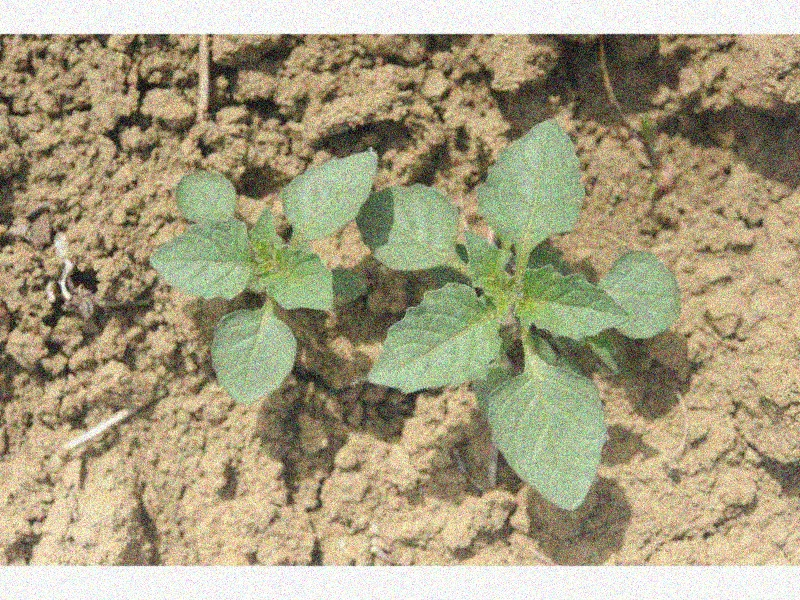nightshade: (359, 117, 681, 507), (151, 148, 377, 403)
